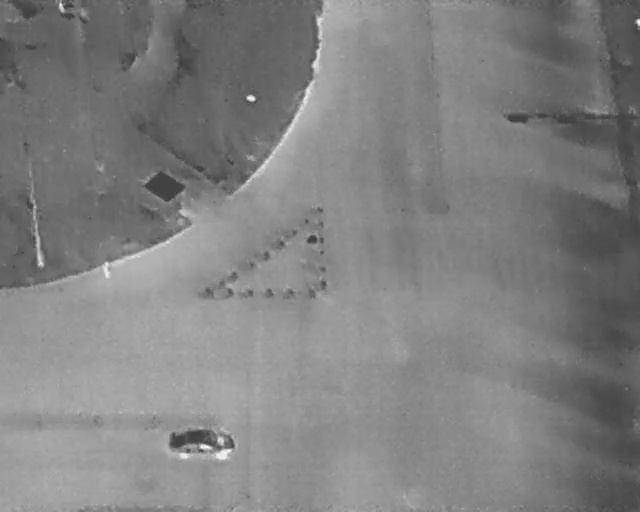Car: (166, 426, 239, 462)
